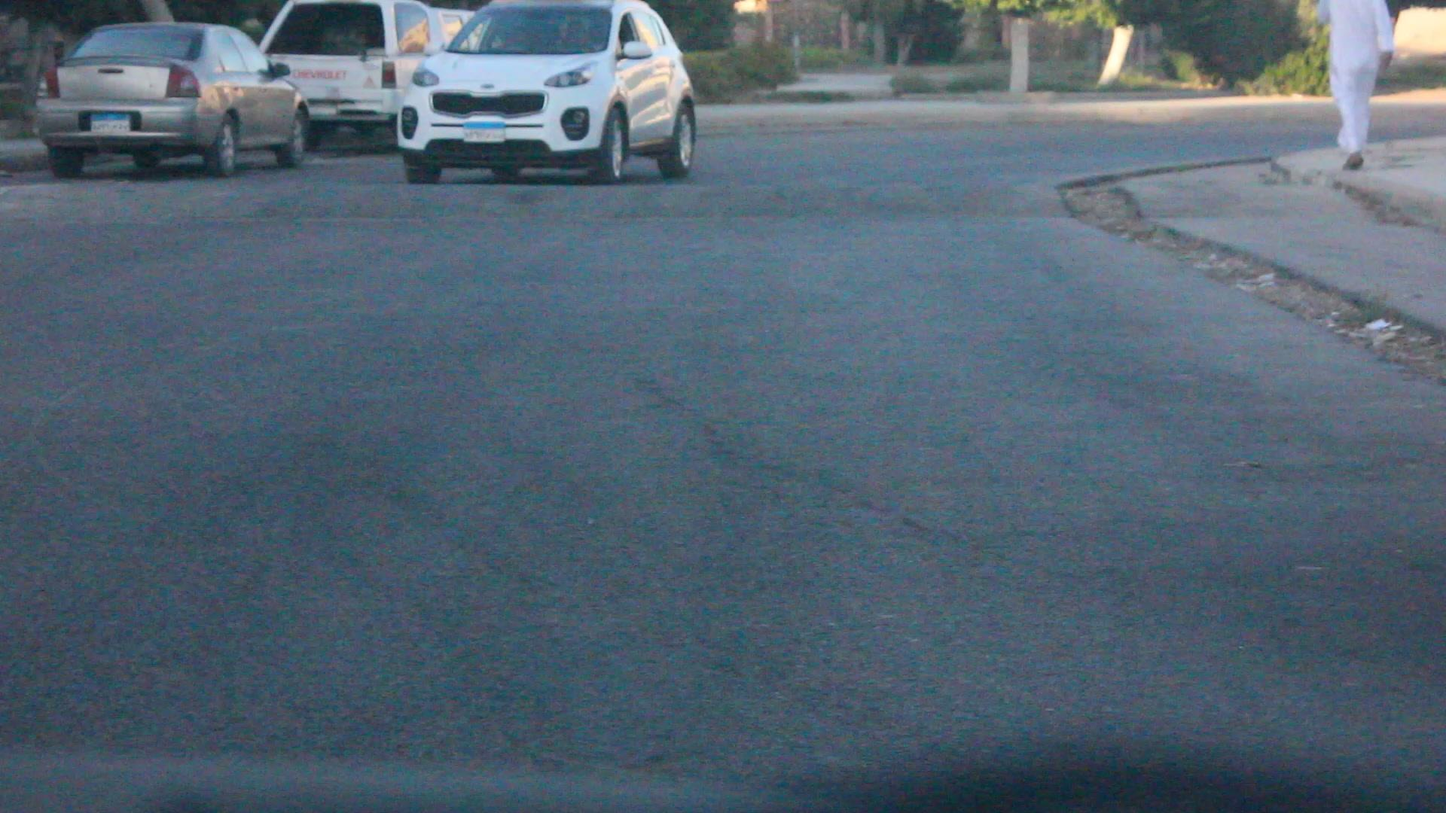Bump: (6, 171, 1124, 230)
